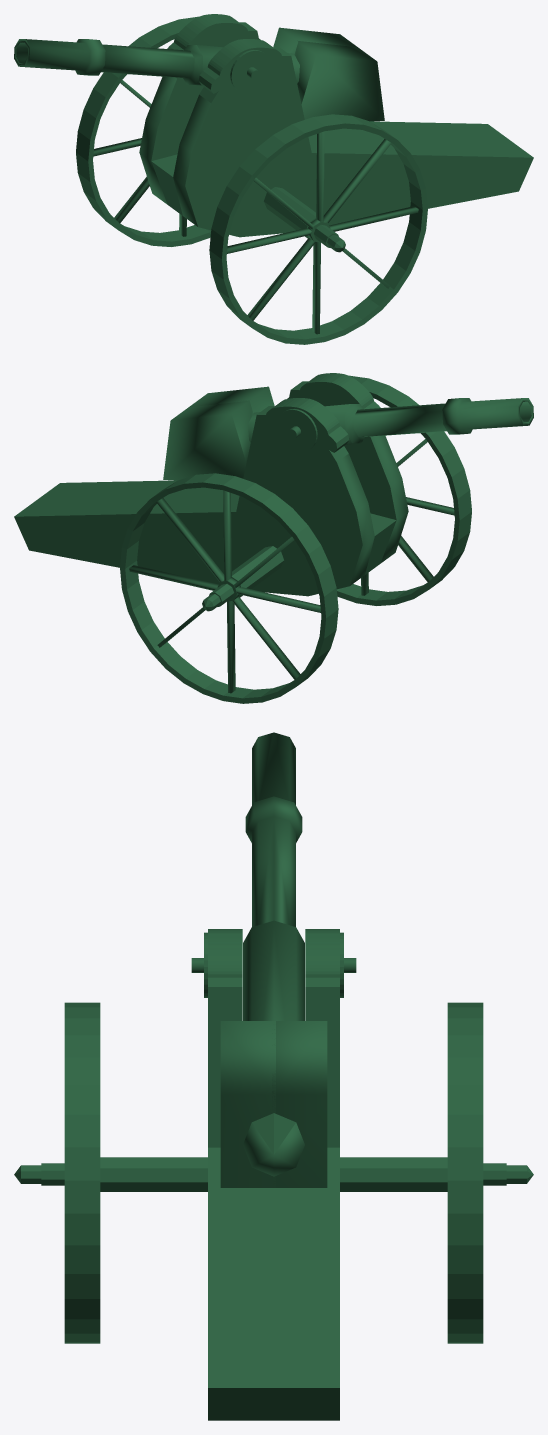
Rendered from Gun.fbx.
3 views of the same model, one above another, from view 1: azimuth 30°, elevation 25°; view 2: azimuth 150°, elevation 25°; view 3: azimuth 270°, elevation 25° (orthographic). The views are drawn at different scales.
Parts seen in each view (by area): view 1: Between wheels; view 2: Between wheels; view 3: Between wheels.
Part boxes in pixels (x1=…): Between wheels: x1=14, y1=14, x2=533, y2=344; Between wheels: x1=14, y1=373, x2=533, y2=703; Between wheels: x1=14, y1=732, x2=533, y2=1420.
Bounding box in the file's own units: 444 × 263 × 283.
